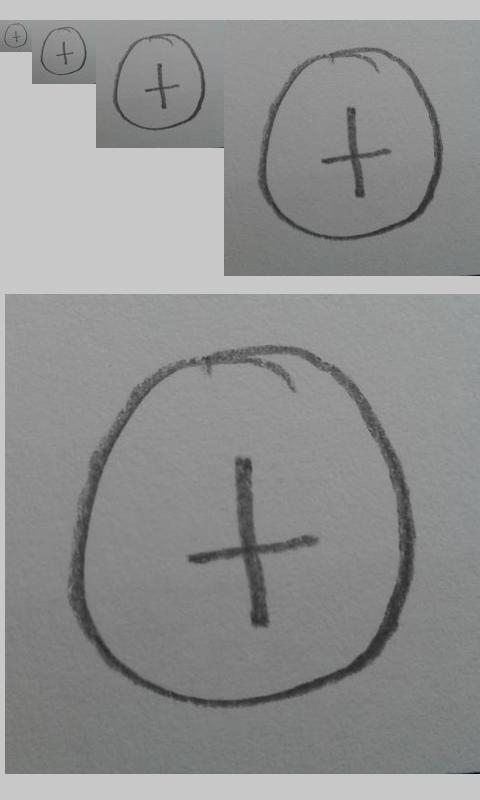button: (68, 341, 414, 709), (258, 46, 443, 242), (112, 33, 206, 131), (40, 26, 87, 76), (4, 23, 28, 48)
